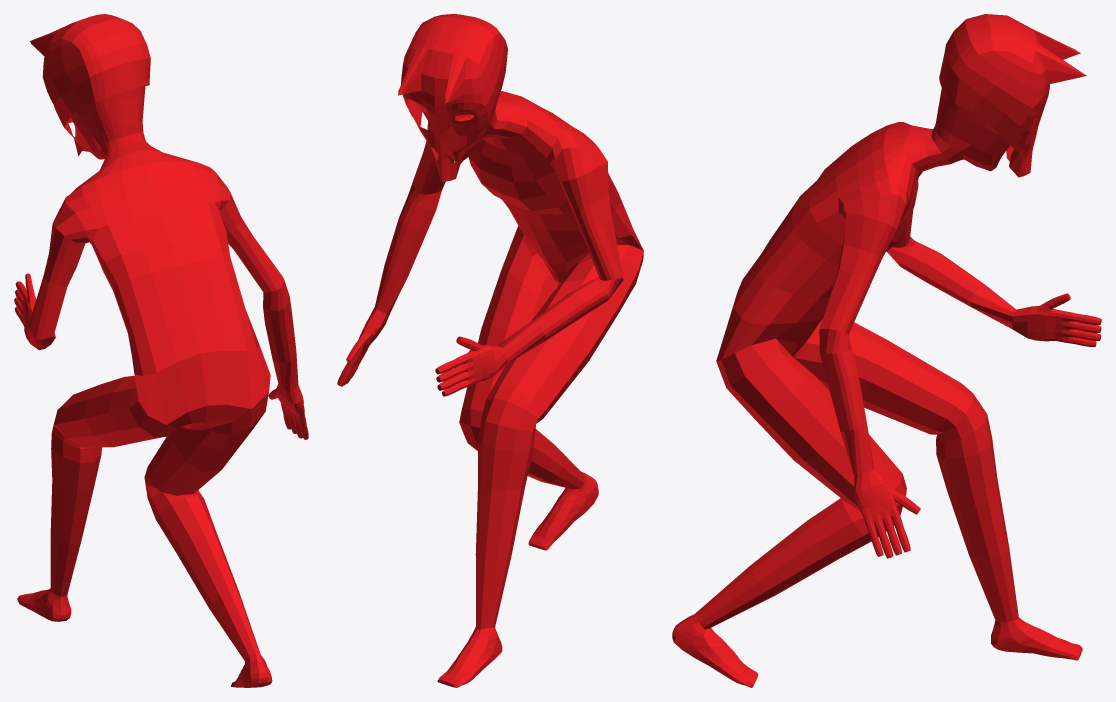
File: saltoadelanteE_000140.obj
3 renders of one model, left to right at view 1: azimuth 30°, elevation 25°; view 2: azimuth 150°, elevation 25°; view 3: azimuth 270°, elevation 25°, orthographic. The views are drawn at different scales.
Visible parts, largest first — view 1: Plane.002_Plane.001; view 2: Plane.002_Plane.001; view 3: Plane.002_Plane.001.
Part boxes in pixels (x1=…): Plane.002_Plane.001: x1=14, y1=14, x2=308, y2=687; Plane.002_Plane.001: x1=337, y1=14, x2=643, y2=687; Plane.002_Plane.001: x1=672, y1=14, x2=1101, y2=687.
Size of the model in its own units: 2.62 by 5.54 by 3.31.
